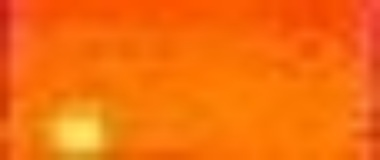Hotspot: (52, 102, 107, 152)
